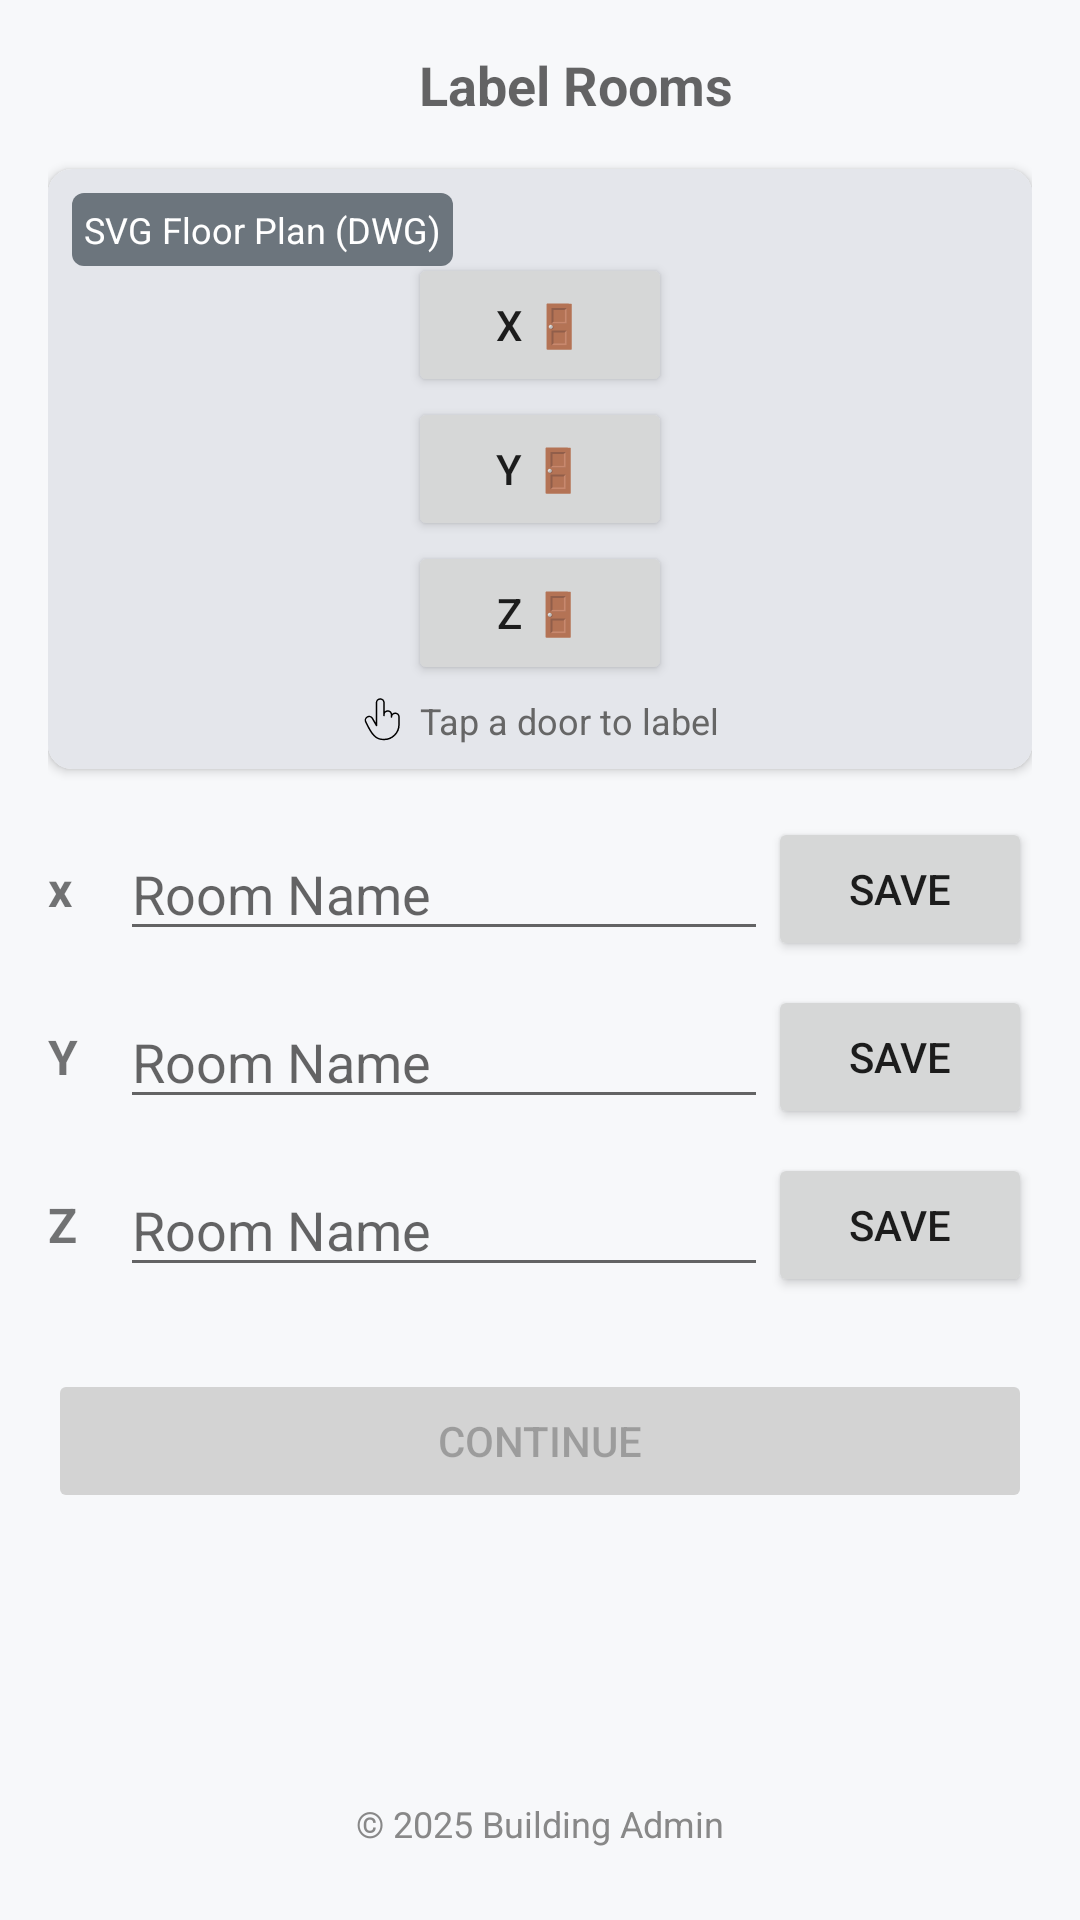

Icons on this 1080w x 1920h Android screen, each with its box as (x1, y1, x2, y2):
hand pointing: (364, 698, 400, 741)
